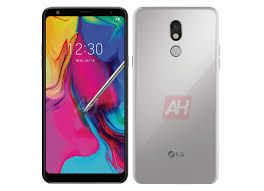lg: (39, 5, 129, 185), (131, 4, 221, 184)
